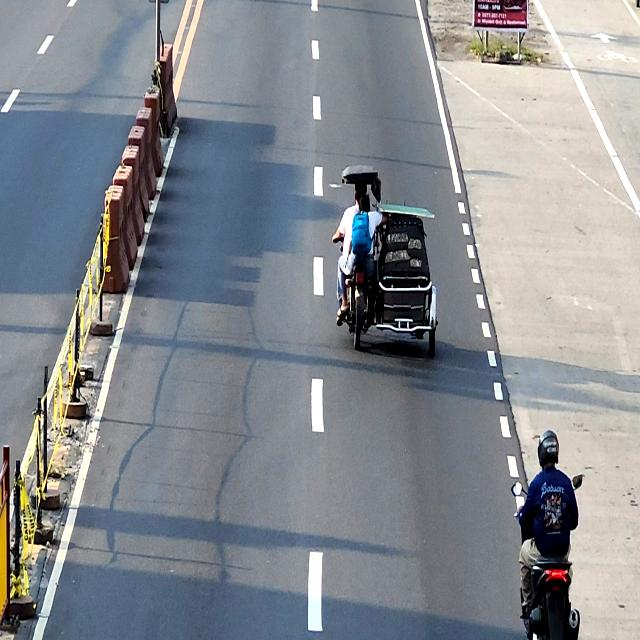Motorcycle: (510, 474, 582, 640)
Tricycle: (336, 167, 438, 355)
